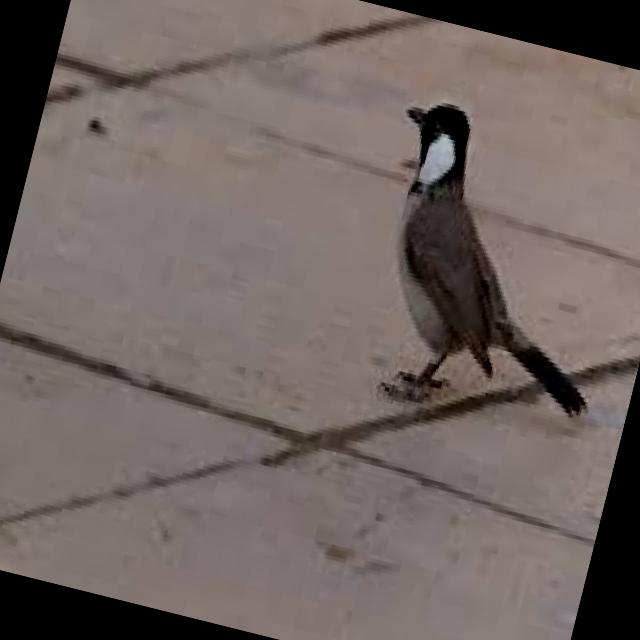bird: (332, 85, 640, 459)
